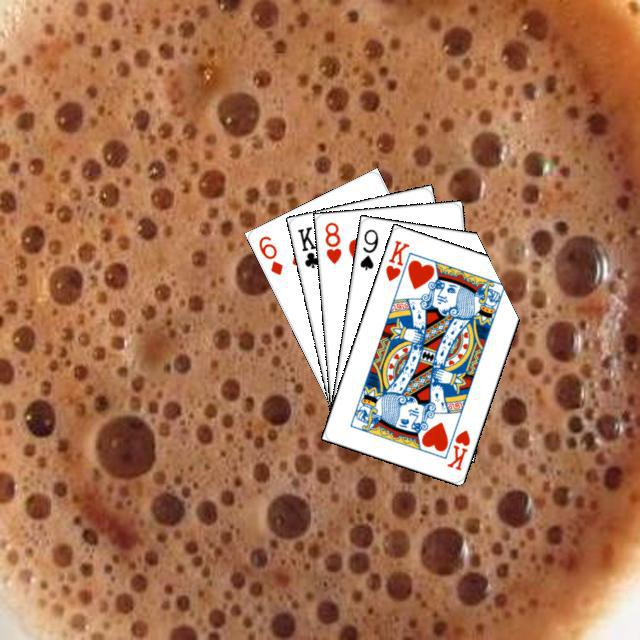6d: (253, 231, 285, 277)
8h: (320, 217, 343, 265)
9s: (355, 224, 380, 272)
Kc: (292, 221, 326, 272)
Kh: (380, 235, 414, 290), (442, 425, 472, 472)
